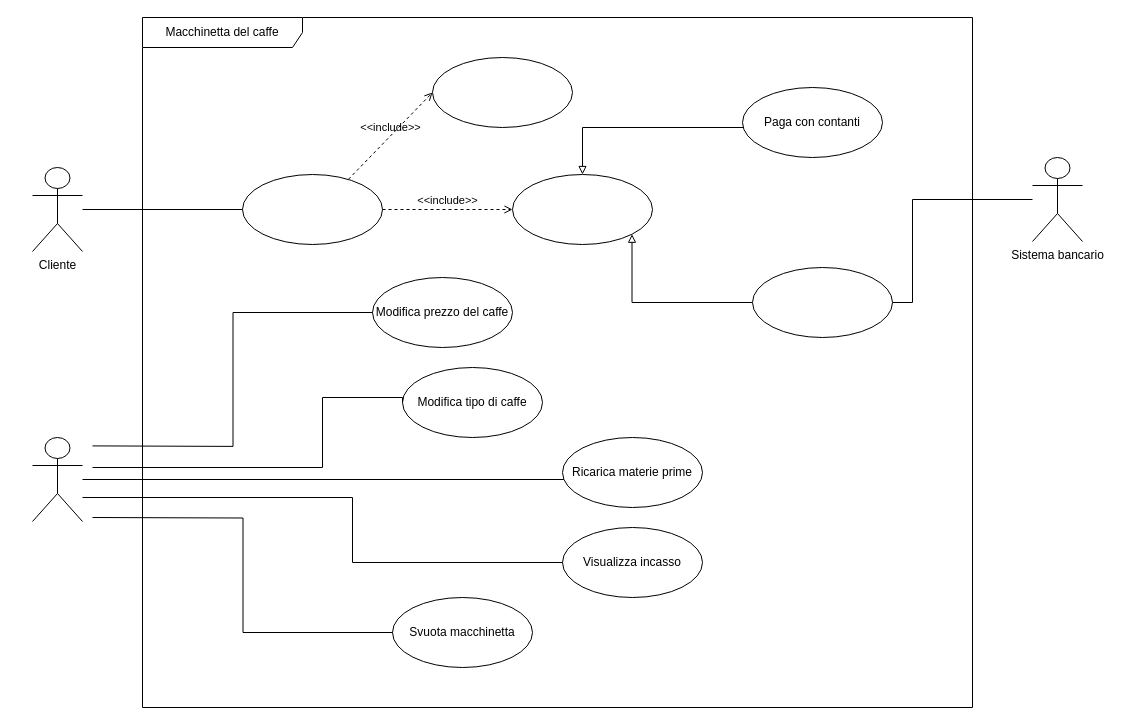
Some shapes in this 1121 by 725 pixel diagram are drawn without their labels. The shapes that lost their labels are listed below. From the top down, each one's box as (x1, y1, x2, y2) in pixels, then its label:
(432, 56, 572, 128): Scegli bevanda
(242, 174, 382, 244): Compra caffe
(512, 174, 652, 244): Paga
(752, 266, 892, 338): Paga con carta
(32, 436, 82, 522): Amministratore
